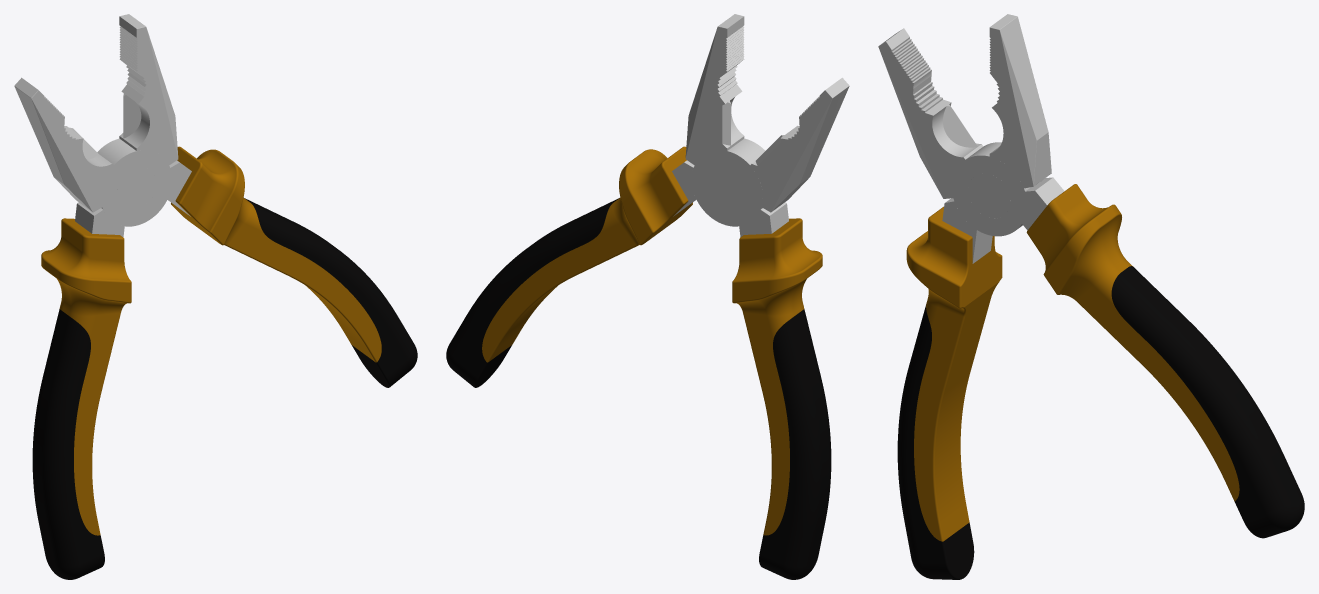
The model's file is Combination Pliers open 40 degrees.obj.
3 renders of one model, left to right at view 1: azimuth 30°, elevation 25°; view 2: azimuth 150°, elevation 25°; view 3: azimuth 330°, elevation 25°, orthographic. The views are drawn at different scales.
Parts seen in each view (by area): view 1: Combination_Pliers_open_40_degrees; view 2: Combination_Pliers_open_40_degrees; view 3: Combination_Pliers_open_40_degrees.
Part boxes in pixels (left/top/right/bottom): Combination_Pliers_open_40_degrees: left=14, top=14, right=417, bottom=579; Combination_Pliers_open_40_degrees: left=446, top=14, right=849, bottom=579; Combination_Pliers_open_40_degrees: left=878, top=14, right=1304, bottom=579.
Size of the model in its own units: 118 by 156 by 21.
